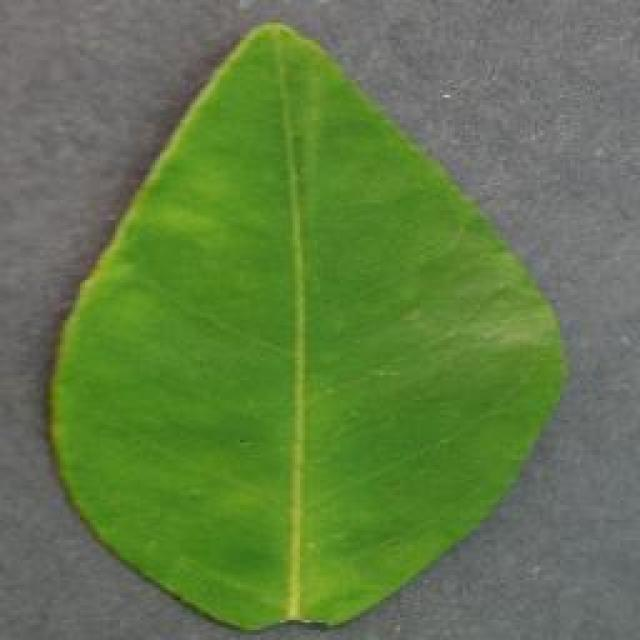Orange_Haunglongbing_Citrus_greening: (106, 135, 495, 605)
